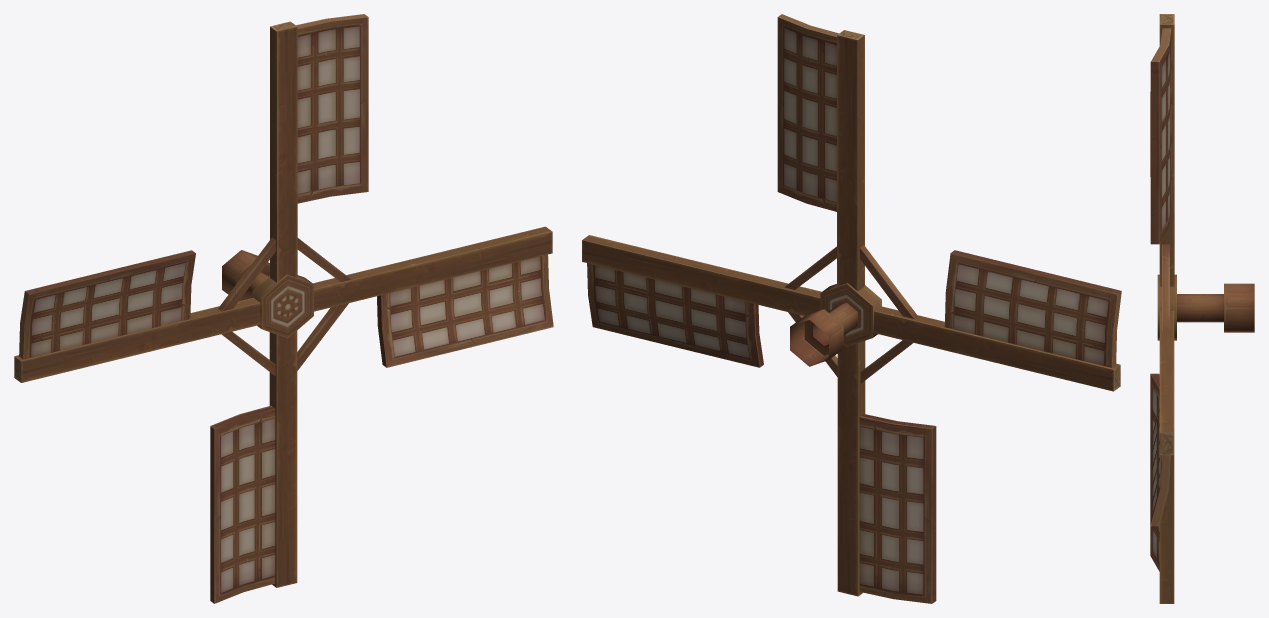
File: scene_lawennushandao_building03c.FBX
The picture shows the model from 3 angles, left to right: view 1: azimuth 30°, elevation 25°; view 2: azimuth 150°, elevation 25°; view 3: azimuth 270°, elevation 25°; orthographic projection. The views are drawn at different scales.
Parts seen in each view (by area): view 1: scene_lawennushandao_building03c; view 2: scene_lawennushandao_building03c; view 3: scene_lawennushandao_building03c.
Part boxes in pixels (left/top/right/bottom): scene_lawennushandao_building03c: left=14, top=14, right=553, bottom=603; scene_lawennushandao_building03c: left=582, top=14, right=1121, bottom=603; scene_lawennushandao_building03c: left=1150, top=14, right=1254, bottom=603.
Bounding box in the file's own units: 743 × 743 × 121.
